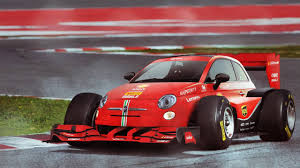f1_car: (43, 48, 300, 158)
